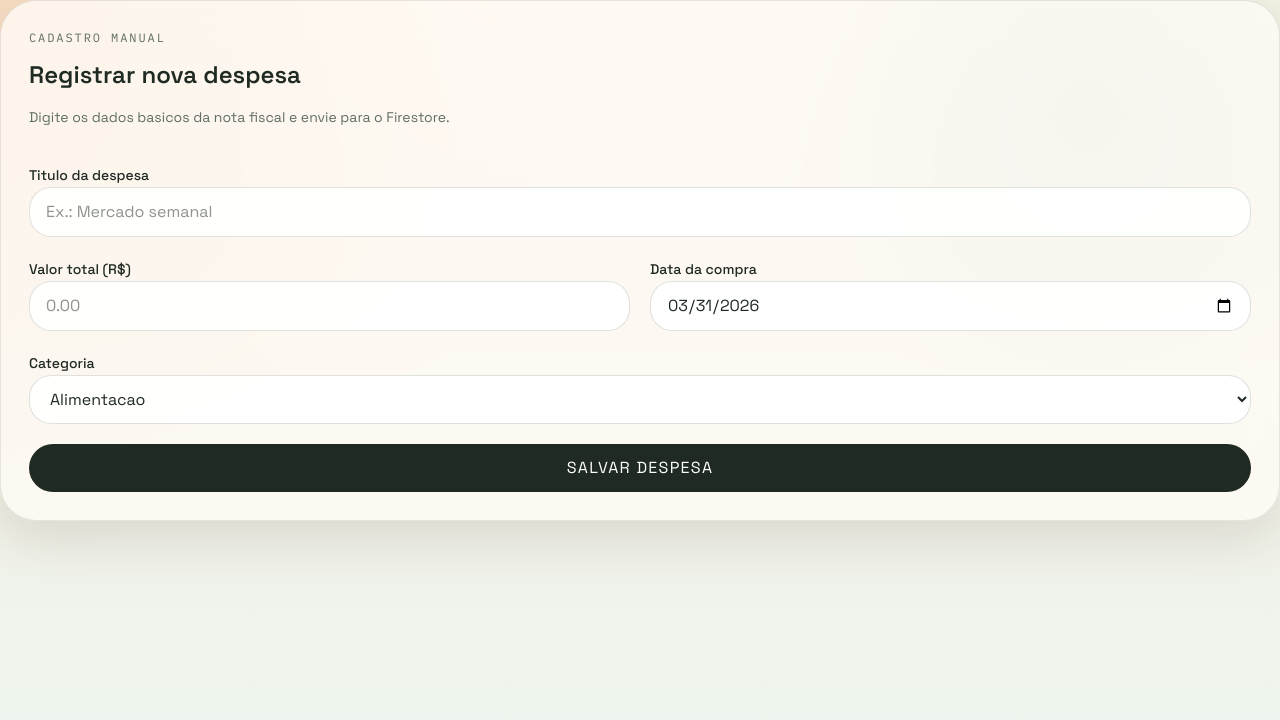
it: ManualExpenseForm › mostra validacao quando os campos obrigatorios estao vazios
Click the button "Salvar despesa" at (640, 468), box [29,444,1251,492]
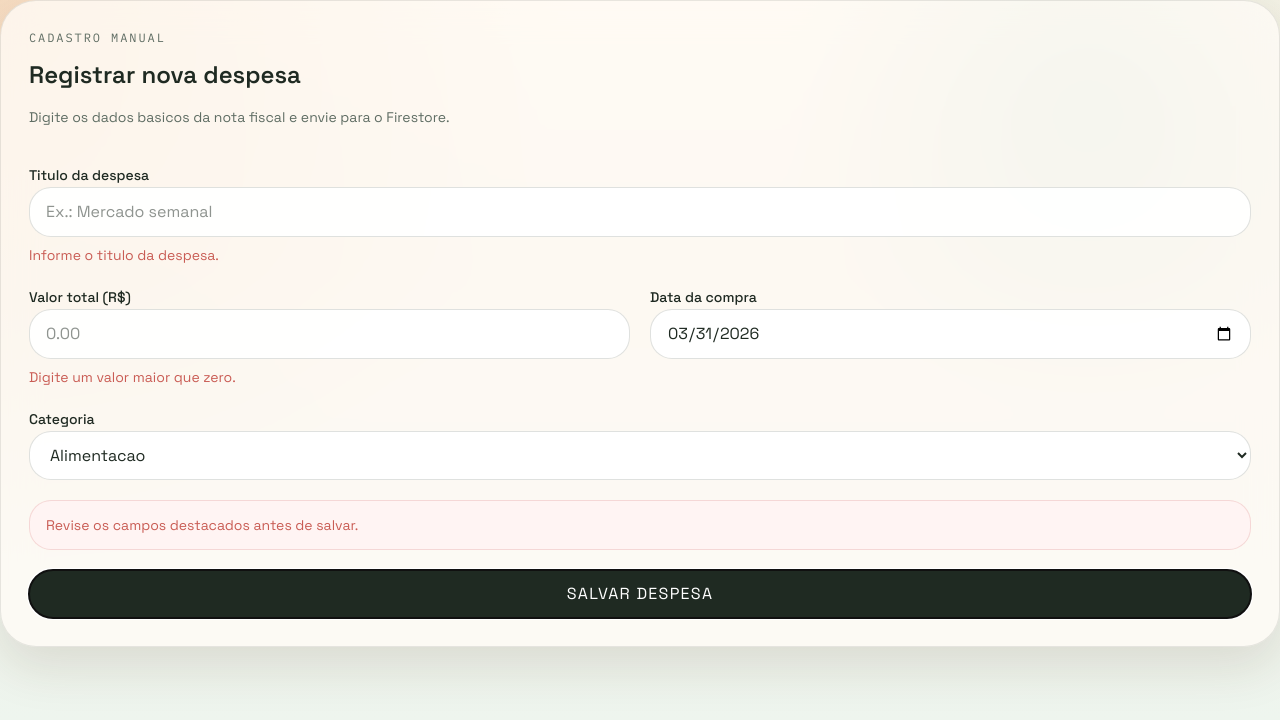
Result: the text "Revise os campos destacados antes de salvar." is shown at [29,500,1251,550]
Result: the text "Informe o titulo da despesa." is shown at [29,246,219,264]
Result: the text "Digite um valor maior que zero." is shown at [29,368,236,386]
